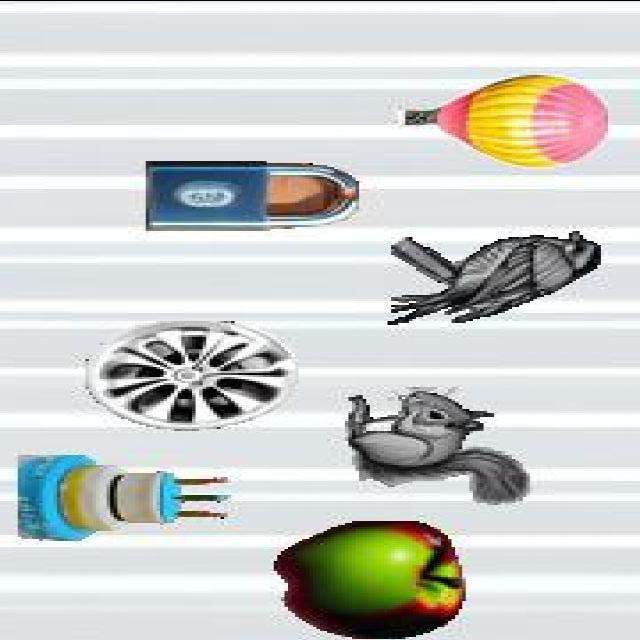Other Objects: (274, 520, 468, 638), (388, 230, 602, 324), (403, 74, 610, 165), (144, 160, 360, 230)
